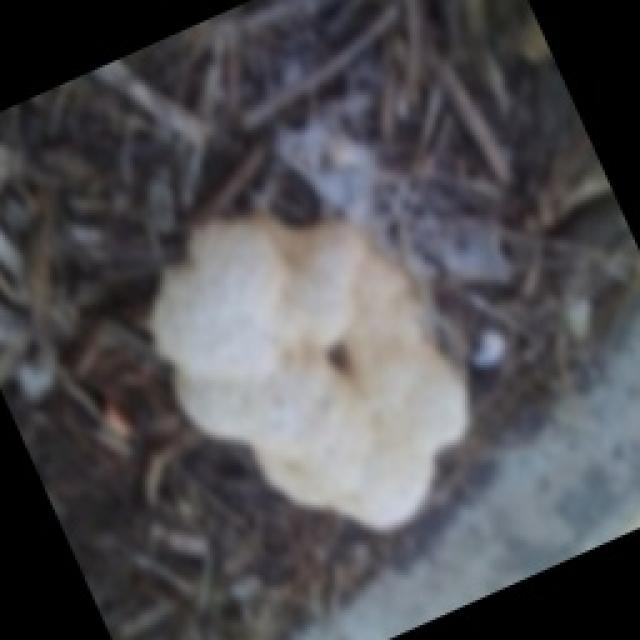Dog_vomit_slime_mold: (138, 195, 485, 544)
